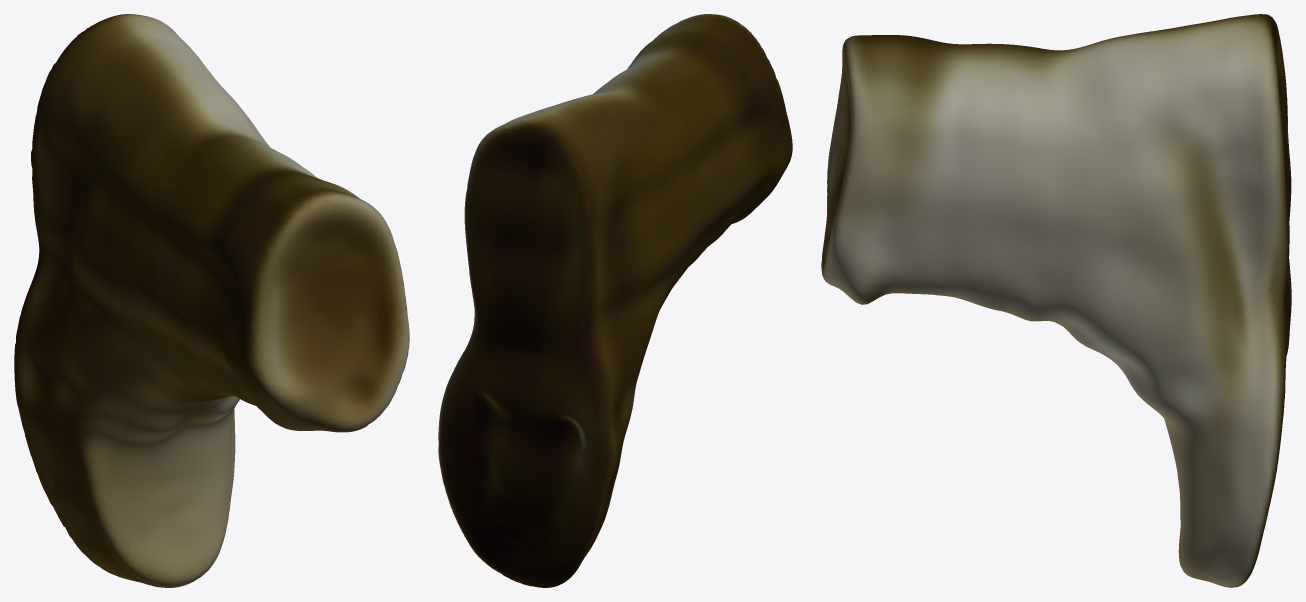
The model's file is shoe1.glb.
3 renders of one model, left to right at view 1: azimuth 30°, elevation 25°; view 2: azimuth 150°, elevation 25°; view 3: azimuth 270°, elevation 25°, orthographic. The views are drawn at different scales.
Size of the model in its own units: 0.3849 by 0.9993 by 0.7774.
